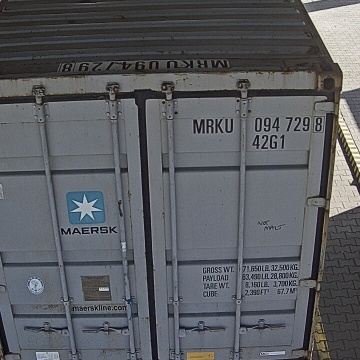serial_id: (193, 115, 324, 132)
